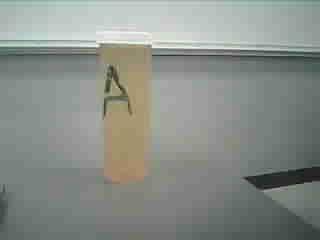Bottle A: (86, 20, 165, 201)
